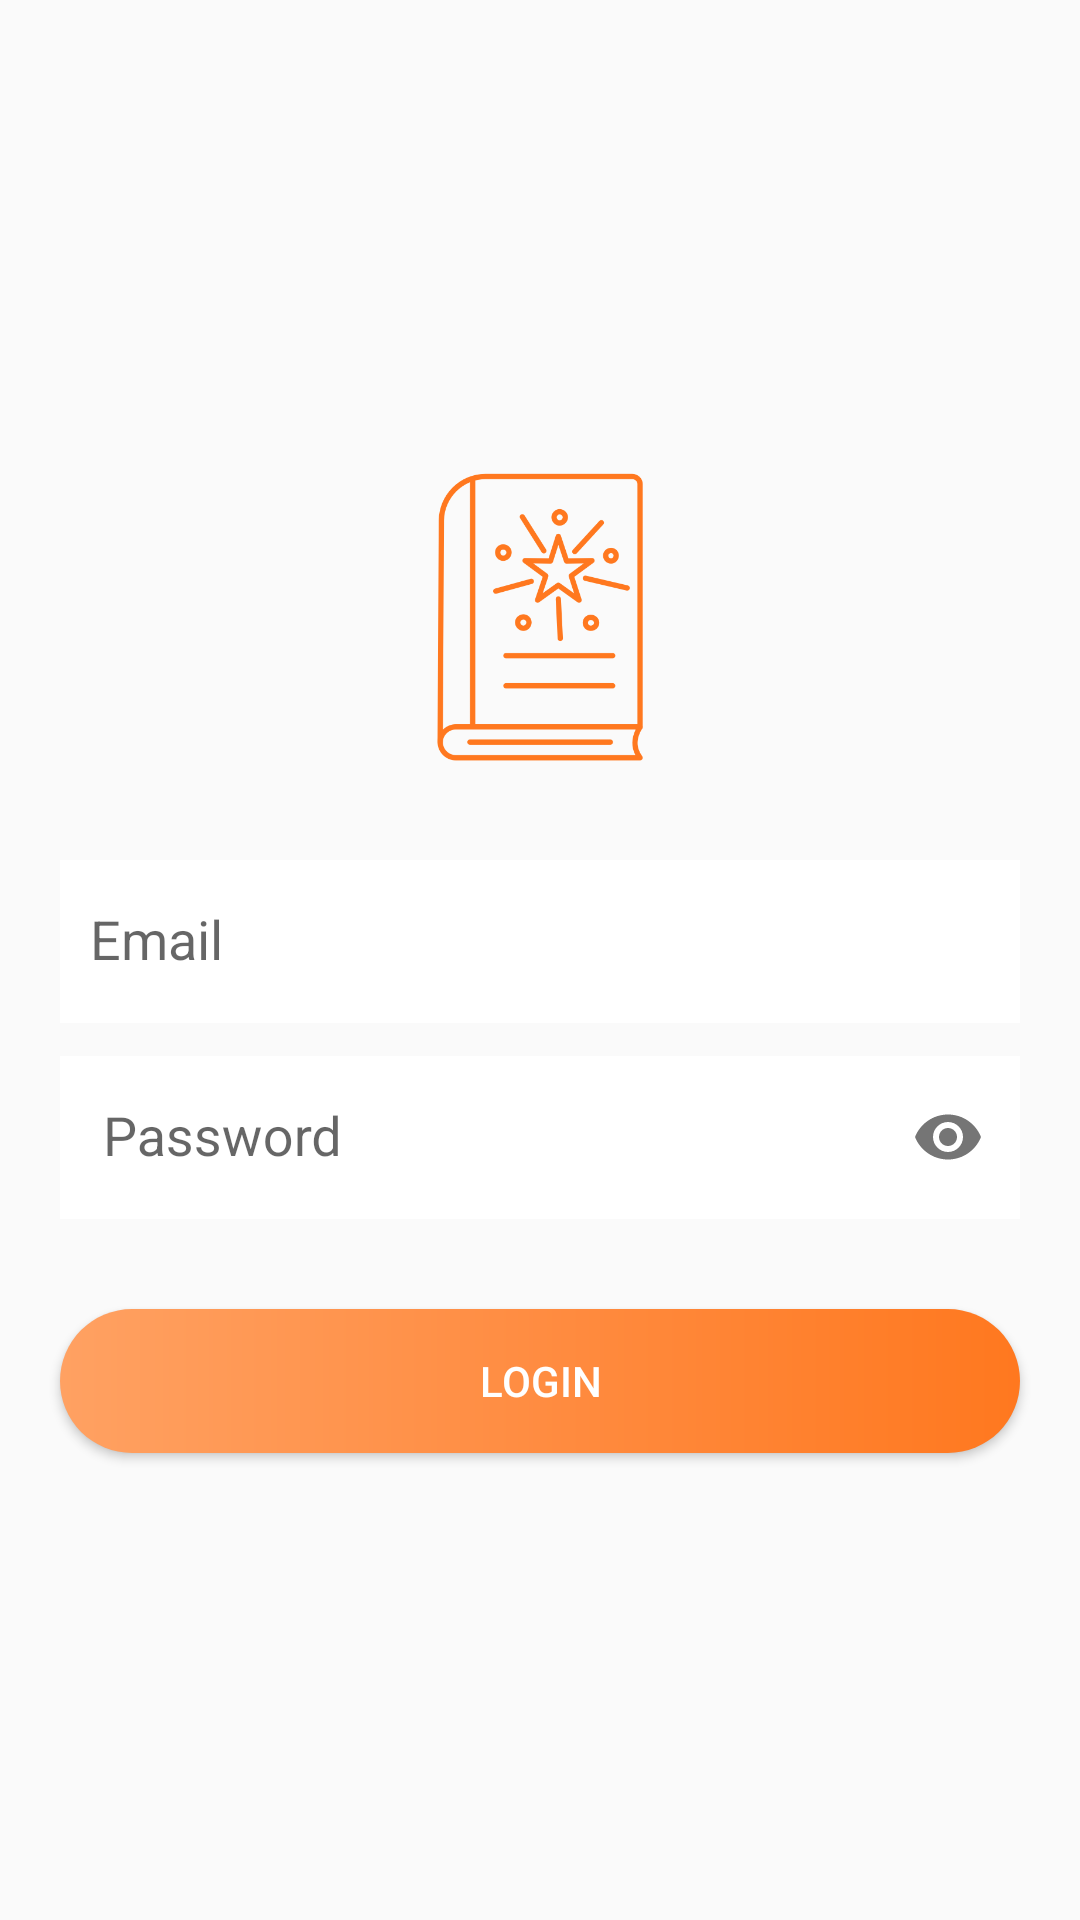

Icon click points for this 1080x1920 phone screenshot, format [x,y]:
book: [540,617]
